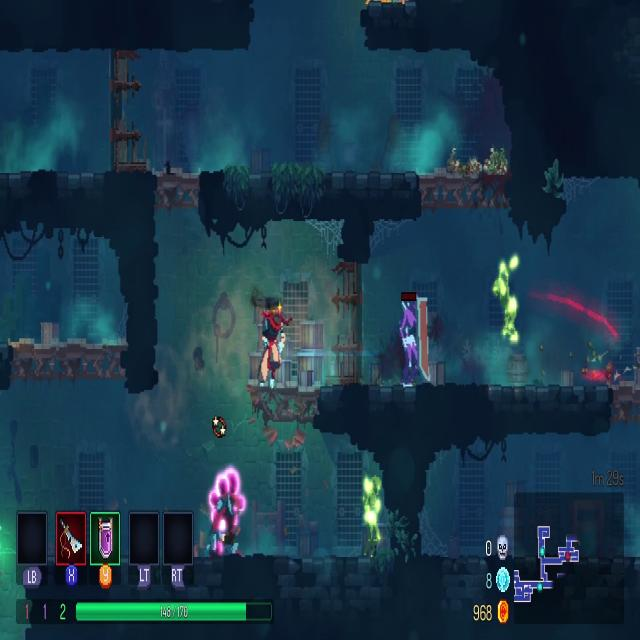agents: (260, 303, 288, 389)
enemy_green_puncher: (492, 258, 518, 337), (362, 478, 381, 558)
enemy_purple_big: (207, 472, 247, 560)
enemy_purple_shield: (400, 296, 433, 386)
